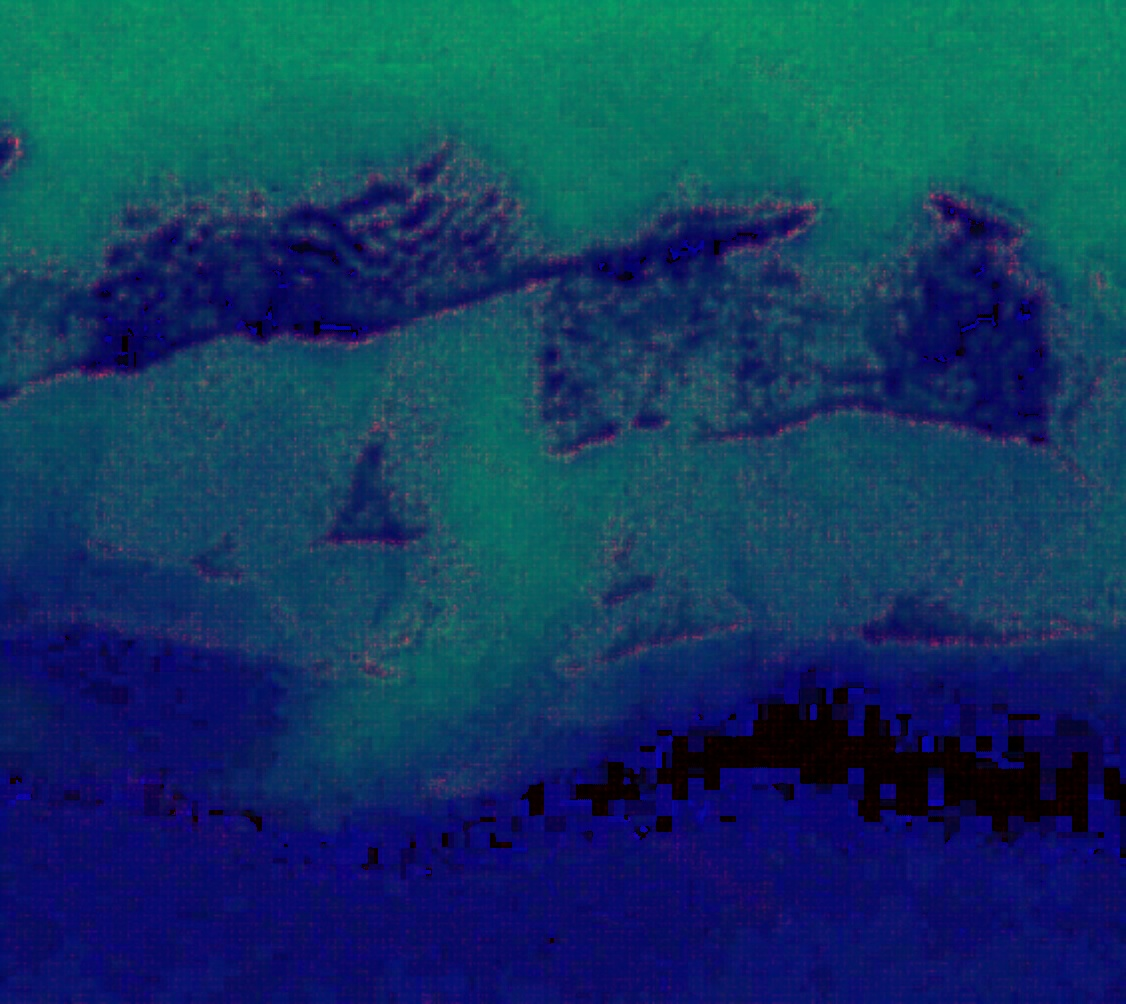rip_current: (258, 251, 737, 804)
